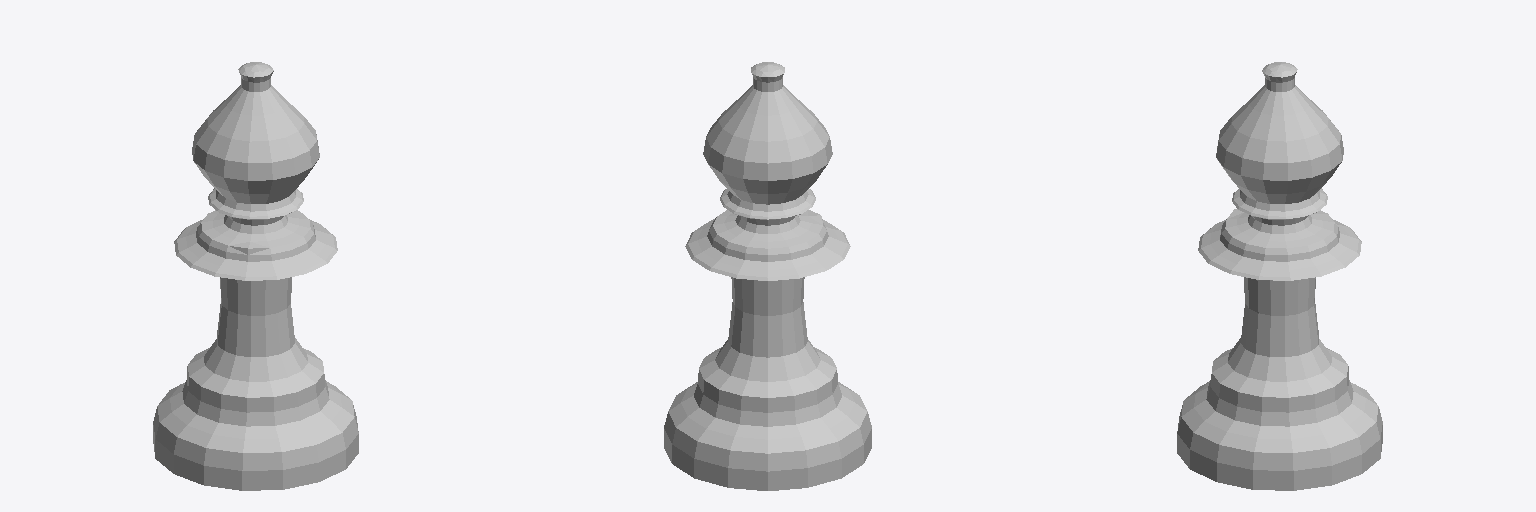
The model's file is bishop.obj.
3 renders of one model, left to right at view 1: azimuth 30°, elevation 25°; view 2: azimuth 150°, elevation 25°; view 3: azimuth 270°, elevation 25°, orthographic.
Visible parts, largest first — view 1: Bishop_Cylinder; view 2: Bishop_Cylinder; view 3: Bishop_Cylinder.
Part boxes in pixels (x1,y1,x2,y2): Bishop_Cylinder: (153,62,358,490); Bishop_Cylinder: (664,62,871,490); Bishop_Cylinder: (1177,62,1382,490).
Size of the model in its own units: 2.76 by 5.67 by 2.76.